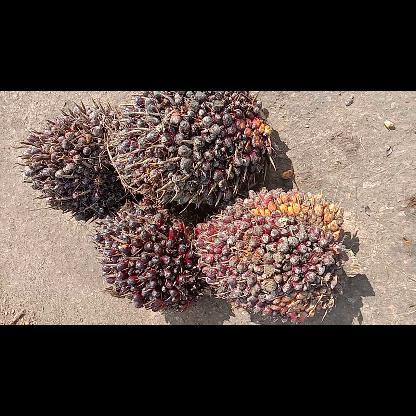Kurang masak: (188, 188, 362, 324), (120, 90, 280, 208), (18, 97, 126, 220), (97, 204, 203, 312)
